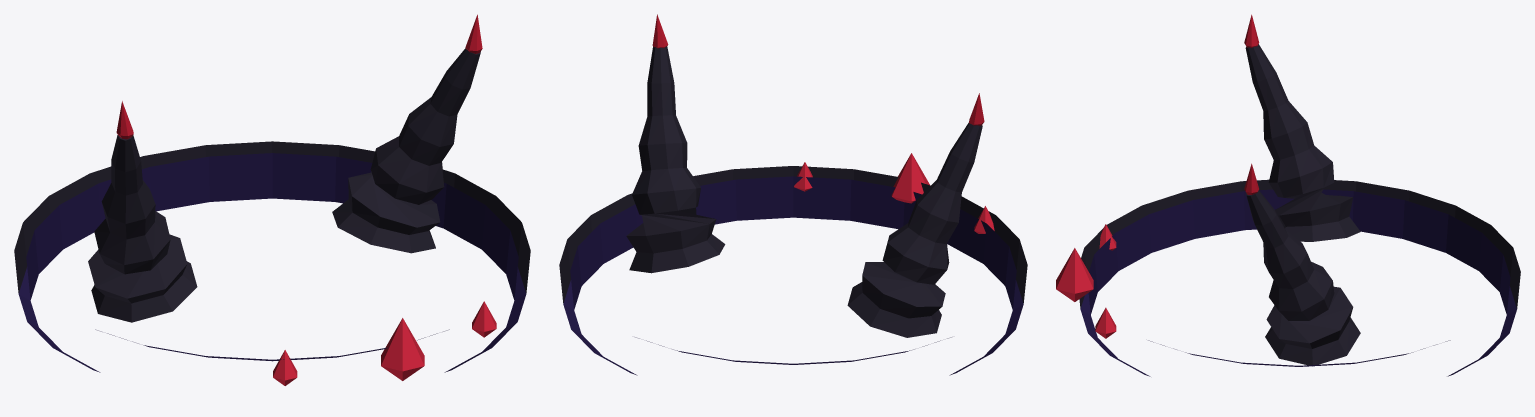
The model's file is demon_horns.obj.
3 renders of one model, left to right at view 1: azimuth 30°, elevation 25°; view 2: azimuth 150°, elevation 25°; view 3: azimuth 270°, elevation 25°, orthographic. The views are drawn at different scales.
Parts seen in each view (by area): view 1: demon_horns; view 2: demon_horns; view 3: demon_horns.
Boxes of the visible parts, x1,y1,x2,y2 form: demon_horns: [14, 14, 530, 385]; demon_horns: [559, 14, 1027, 375]; demon_horns: [1056, 14, 1520, 376].
Size of the model in its own units: 9.44 by 5.31 by 9.88.
